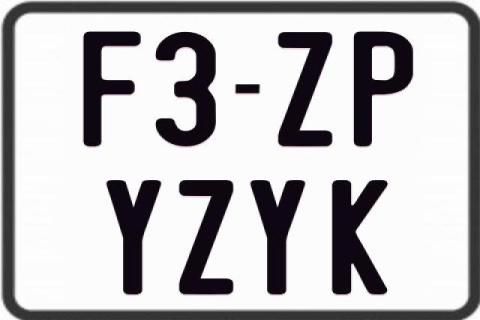0: (154, 31, 215, 149)
F: (80, 31, 144, 147)
K: (332, 180, 391, 298)
P: (351, 31, 410, 147)
Y: (251, 180, 311, 295), (107, 178, 165, 294)
Z: (278, 31, 336, 148), (177, 180, 231, 296)
